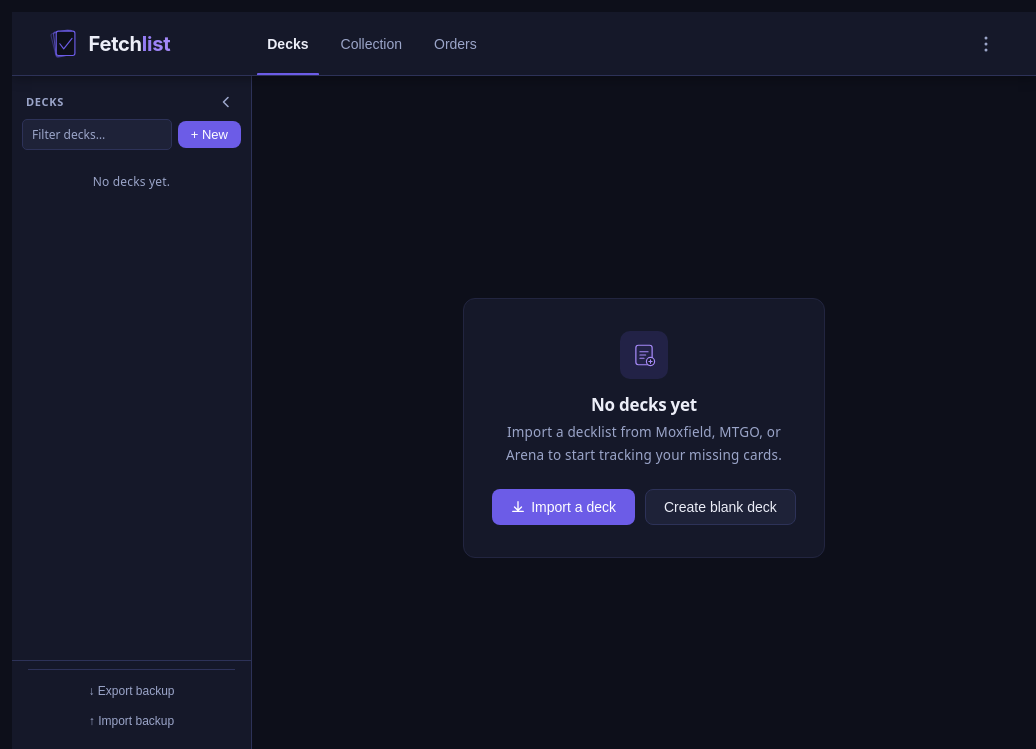
Test case: Trade route › leaves Trade when a top-level tab is clicked
Click the button "Collection". click: {"x": 371, "y": 44}
box: [324, 12, 418, 75]
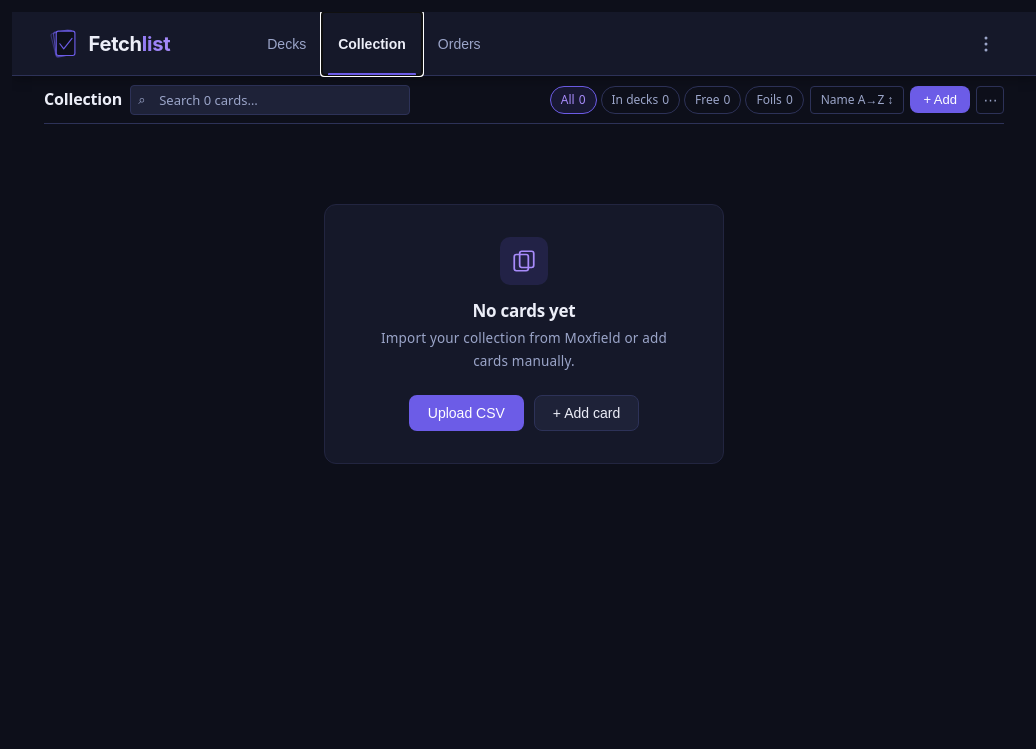
Click the button named "More options". click: {"x": 990, "y": 100}
box: [976, 86, 1004, 114]
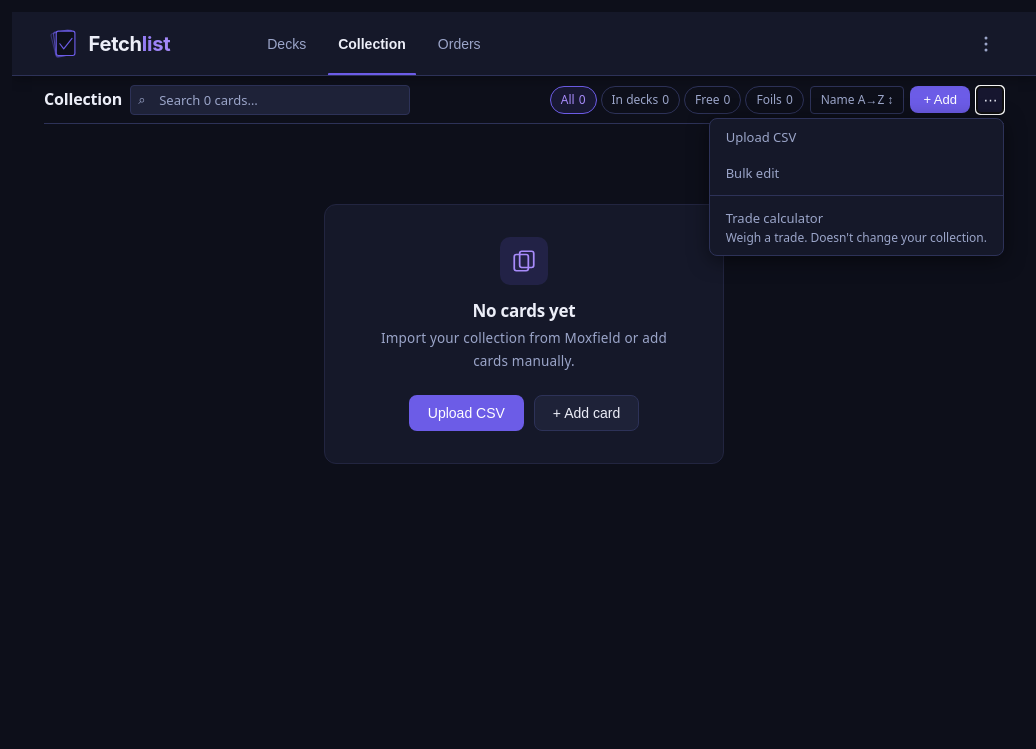
Click the button "Trade calculator". click: {"x": 856, "y": 227}
box: [710, 200, 1003, 254]
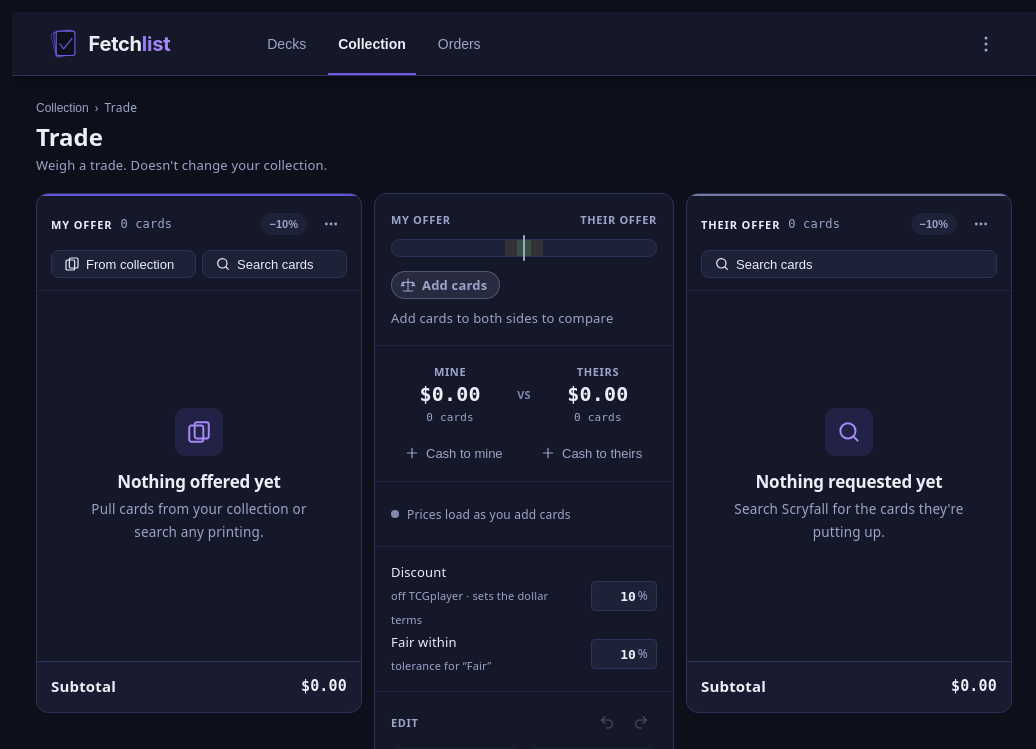
Click the button "Orders". click: {"x": 459, "y": 44}
box: [422, 12, 497, 75]
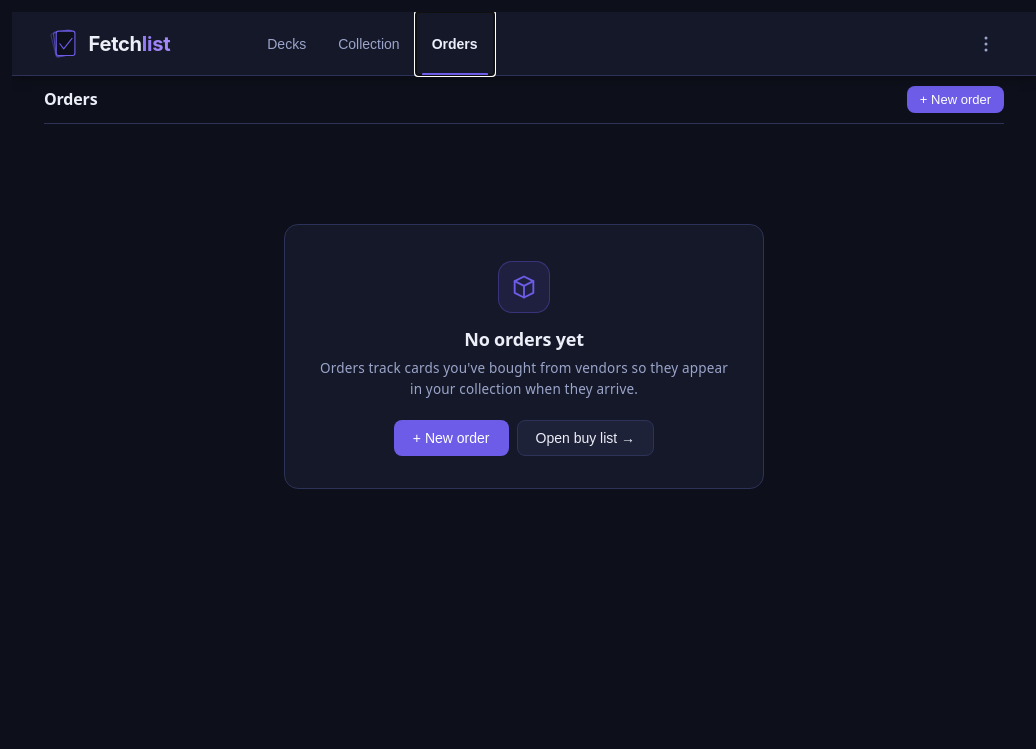
Result: the text "Trade" is gone
